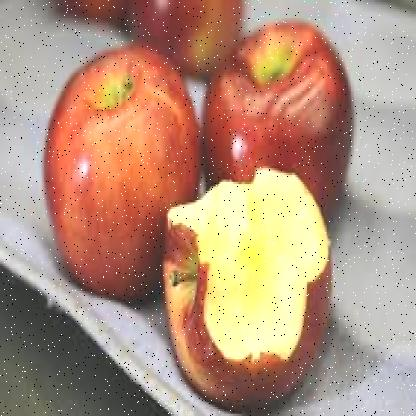apple: (48, 56, 202, 286), (197, 29, 352, 209)
damaged_apple: (156, 170, 334, 412)
